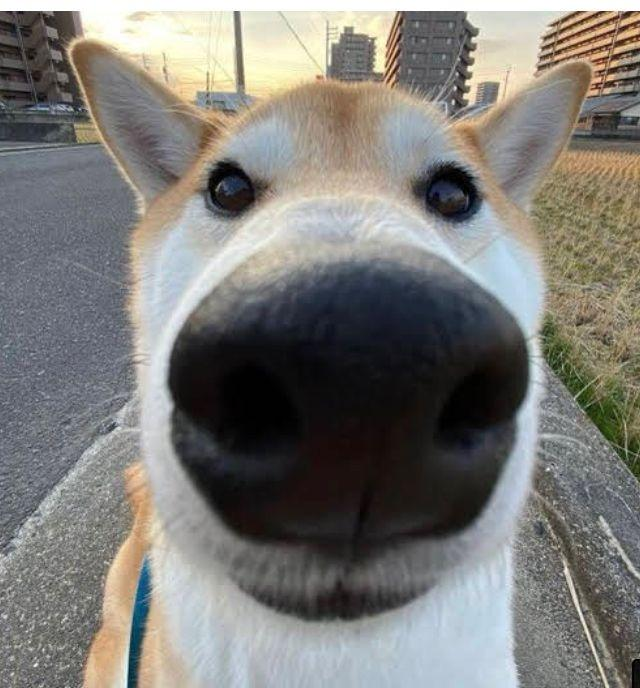adult_dog: (66, 34, 596, 688)
